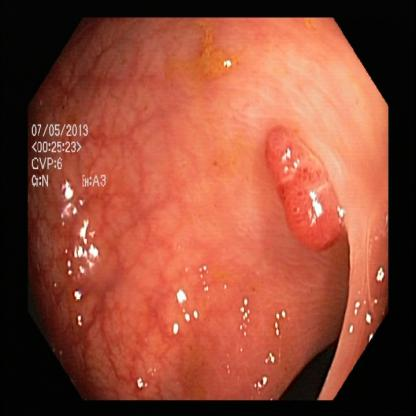Labels: (27, 119, 110, 192)
Polyps: (262, 120, 353, 257)
